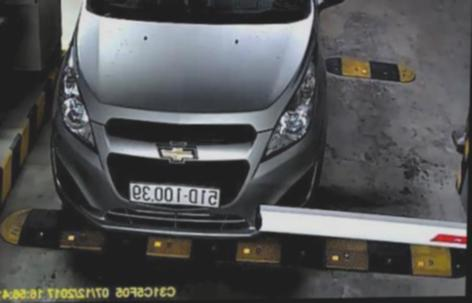License_Plate: (124, 176, 219, 209)
